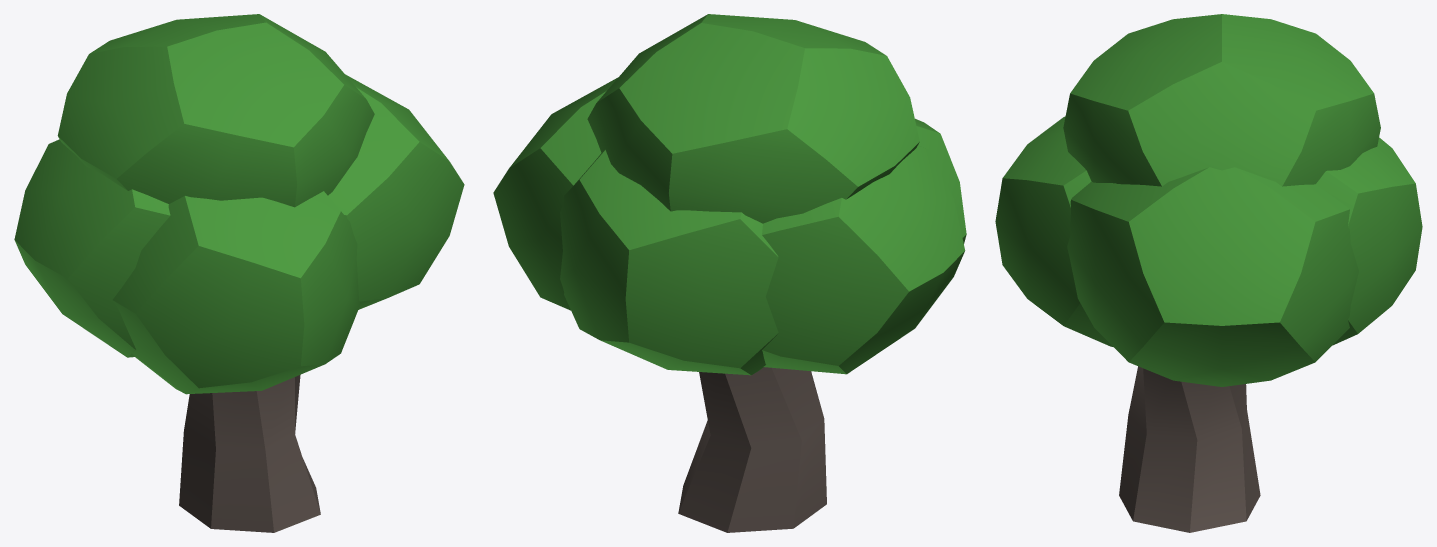
The model's file is tree3.fbx.
3 views of the same model, side by side, from view 1: azimuth 30°, elevation 25°; view 2: azimuth 150°, elevation 25°; view 3: azimuth 270°, elevation 25° (orthographic). The views are drawn at different scales.
Parts seen in each view (by area): view 1: pCylinder2; view 2: pCylinder2; view 3: pCylinder2.
Boxes of the visible parts, <box> form: pCylinder2: <box>14,14,464,532</box>; pCylinder2: <box>493,14,966,532</box>; pCylinder2: <box>995,14,1422,532</box>.
Size of the model in its own units: 81.74 by 89.25 by 75.25.
